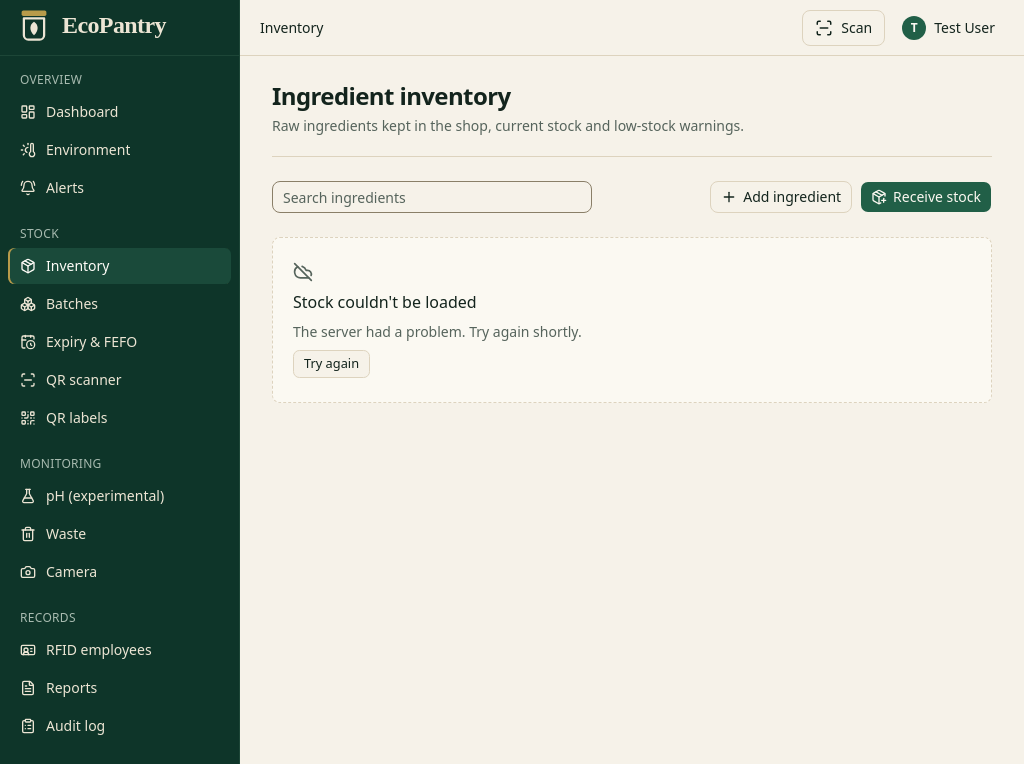
Inventory page › reports a failed load and retries
Expected: the text "Stock couldn't be loaded" is shown, [293,290,477,314]
Expected: the text "The server had a problem. Try again shortly." is shown, [293,322,582,342]
Click the button "Try again": (332, 364) [293,350,370,378]
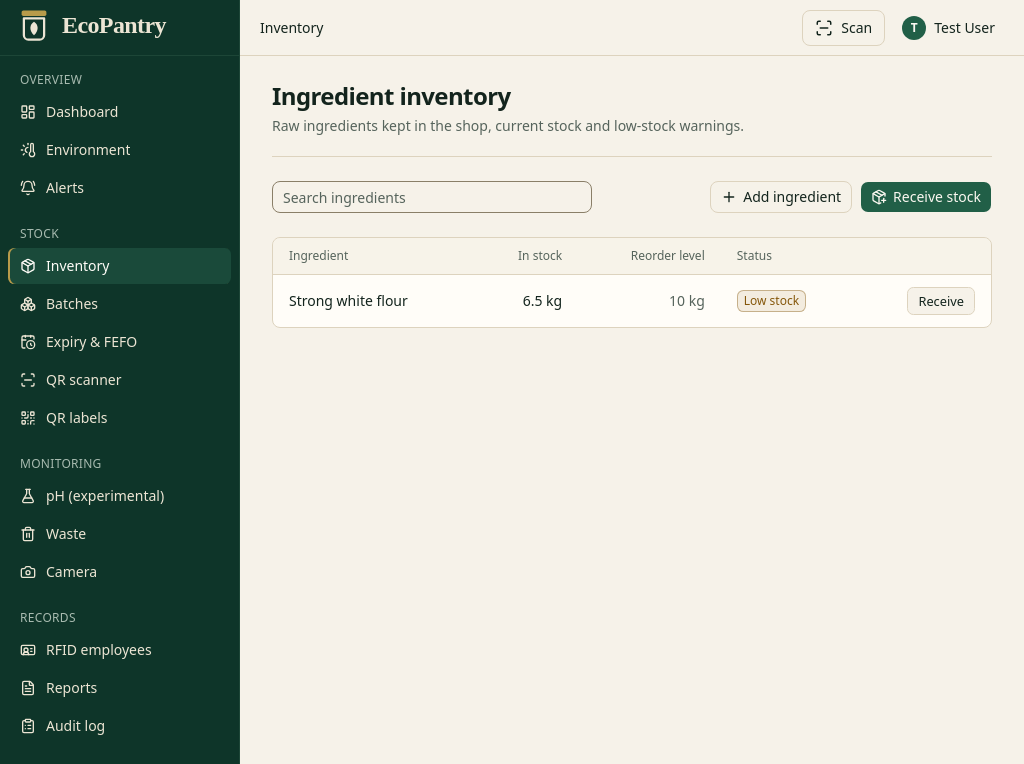
Result: the link "Strong white flour" is shown at [289,291,408,310]
